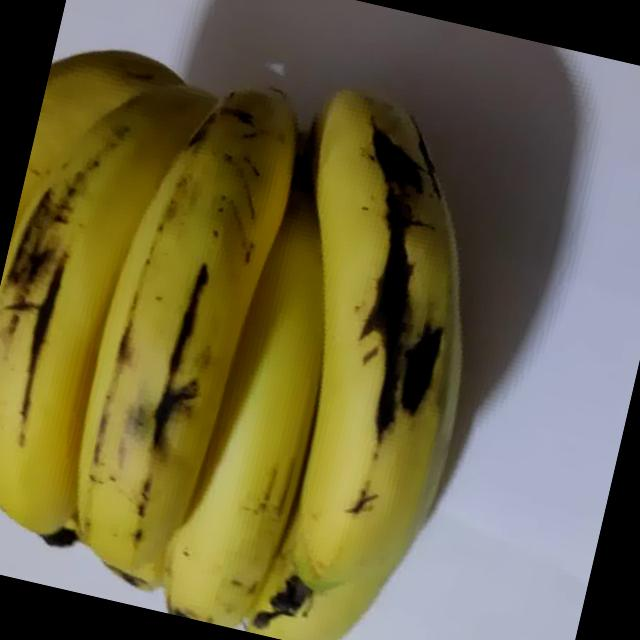banana_pacche: (0, 0, 587, 640)
